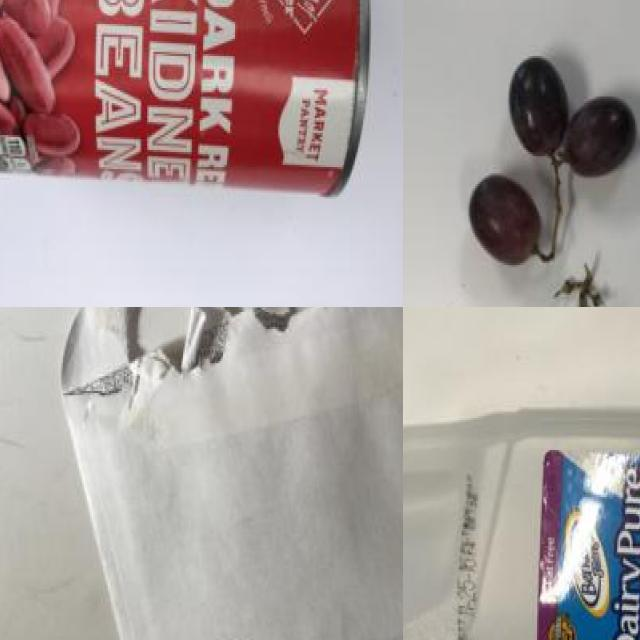compost: (446, 42, 640, 307)
paper: (73, 307, 403, 640)
plastic: (0, 0, 398, 221), (403, 414, 640, 640)
